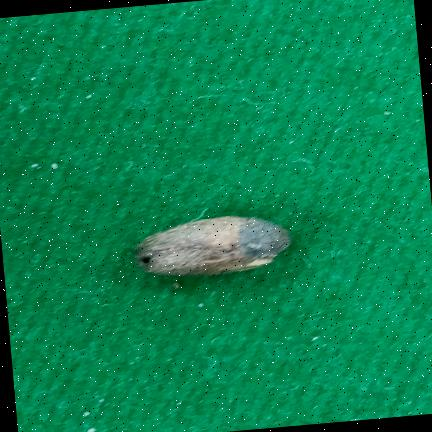partial-black: (134, 216, 291, 276)
